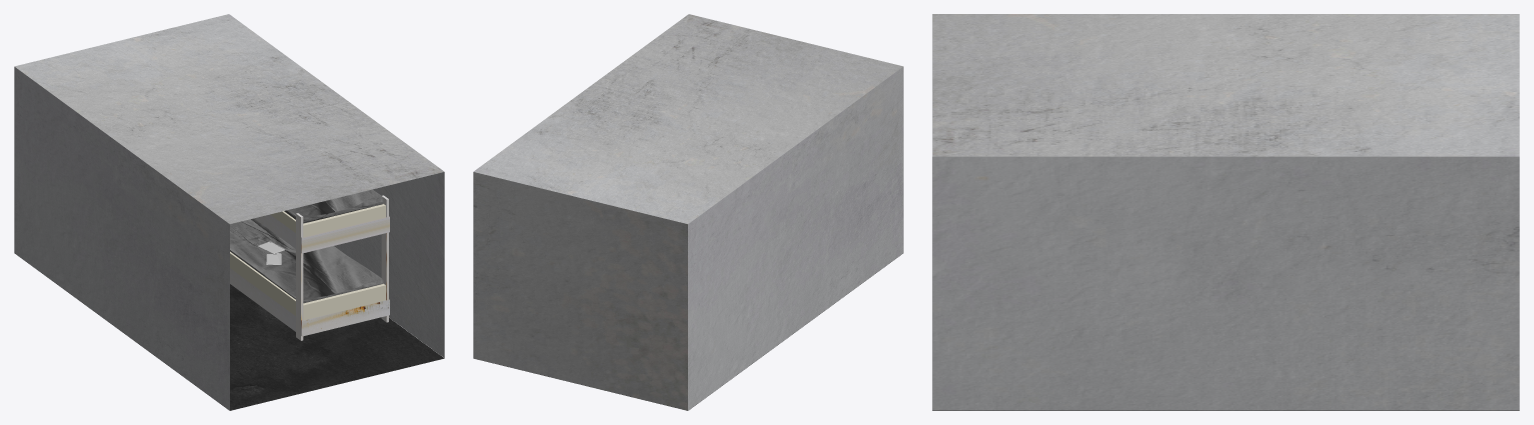
File: prison.fbx
3 renders of one model, left to right at view 1: azimuth 30°, elevation 25°; view 2: azimuth 150°, elevation 25°; view 3: azimuth 270°, elevation 25°, orthographic. The views are drawn at different scales.
Visible parts, largest first — view 1: walls, floor, Cube.002, Cube.004, Cube.013, Cube.014, Cube.001, Cube.003, Cube.007, Cube.005; view 2: walls; view 3: walls, floor.
Boxes of the visible parts, x1,y1,x2,y2 form: walls: (14, 14, 444, 410); floor: (17, 255, 444, 410); Cube.002: (230, 218, 383, 303); Cube.004: (230, 251, 385, 320); Cube.013: (230, 268, 389, 336); Cube.014: (254, 214, 389, 253); Cube.001: (284, 189, 383, 223); Cube.003: (270, 204, 385, 237); Cube.007: (296, 213, 303, 340); Cube.005: (381, 195, 388, 322); walls: (473, 14, 903, 410); walls: (932, 14, 1519, 410); floor: (932, 410, 1519, 410).
Bounding box in the file's own units: 1682 × 1402 × 2922.
